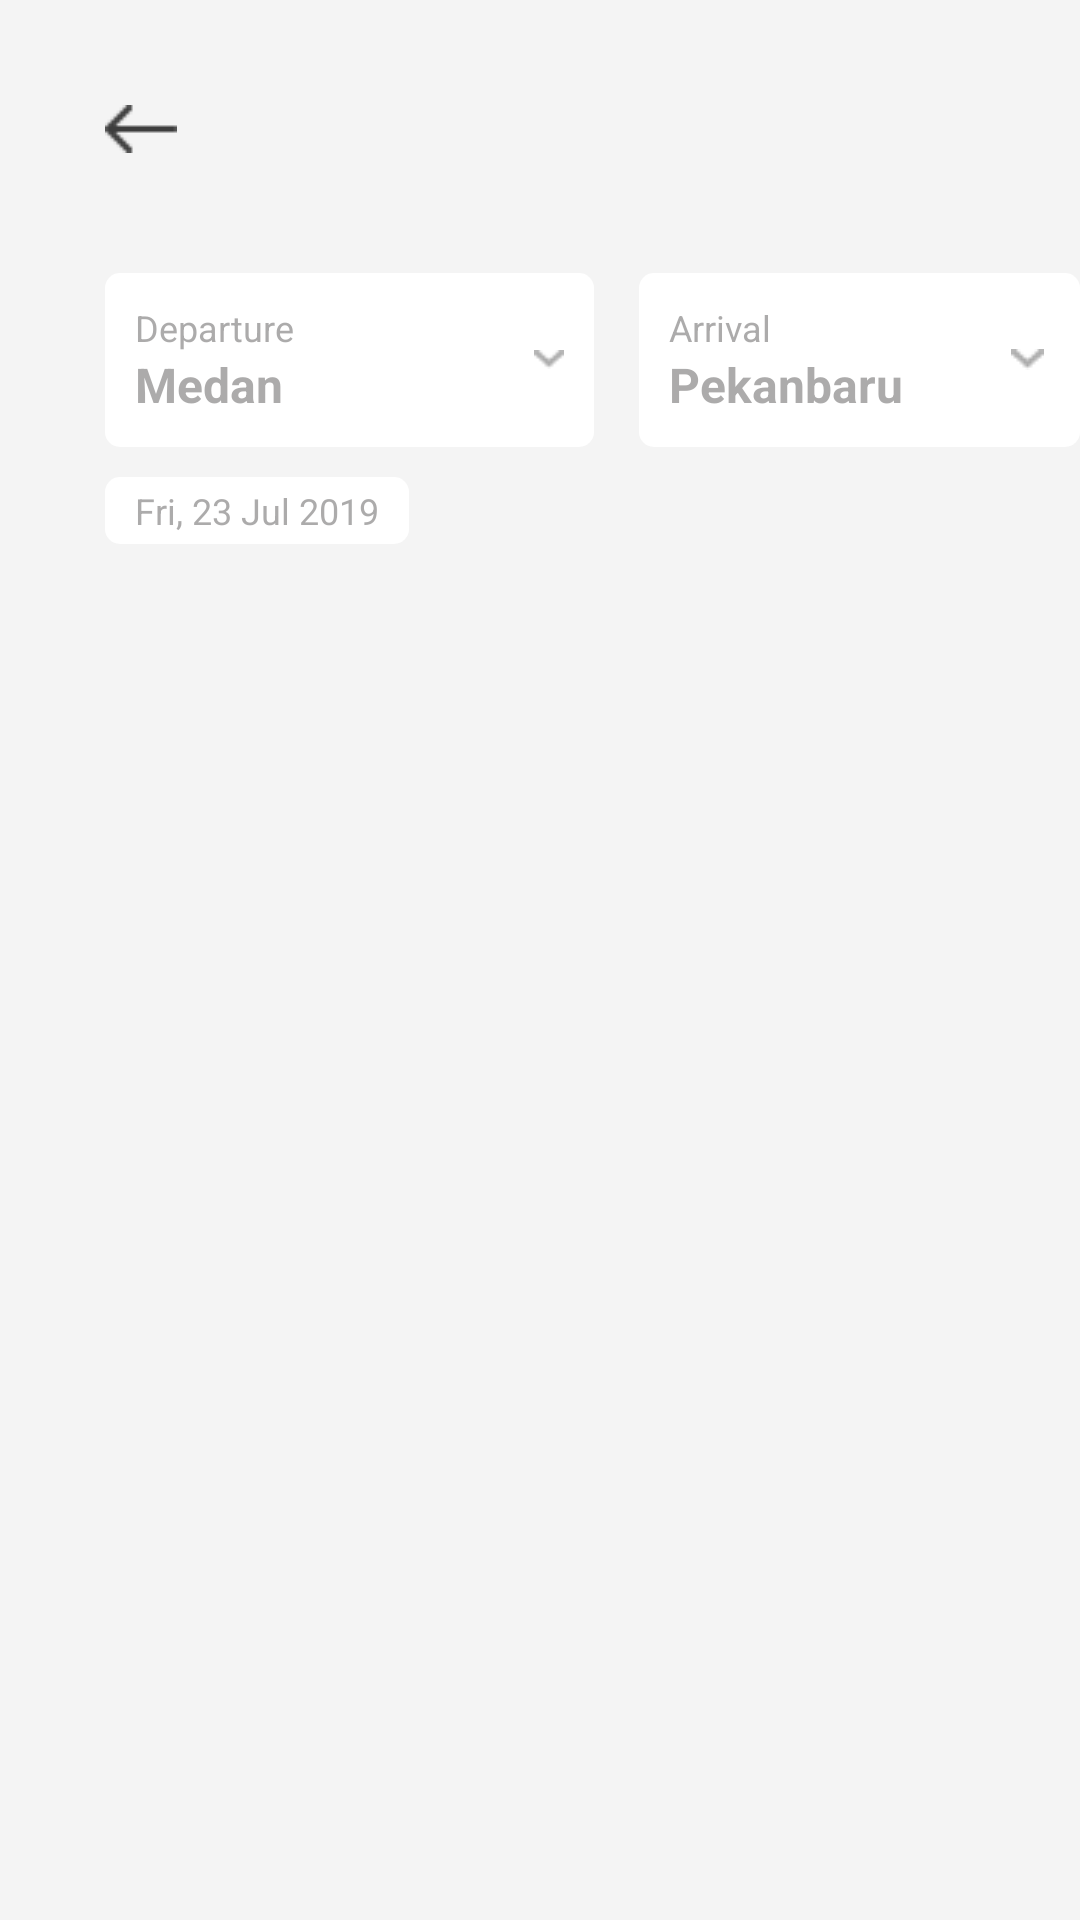

Where to tap for icons on this 1080 × 1920 app screen, as (x,y):
back arrow: (141,129)
